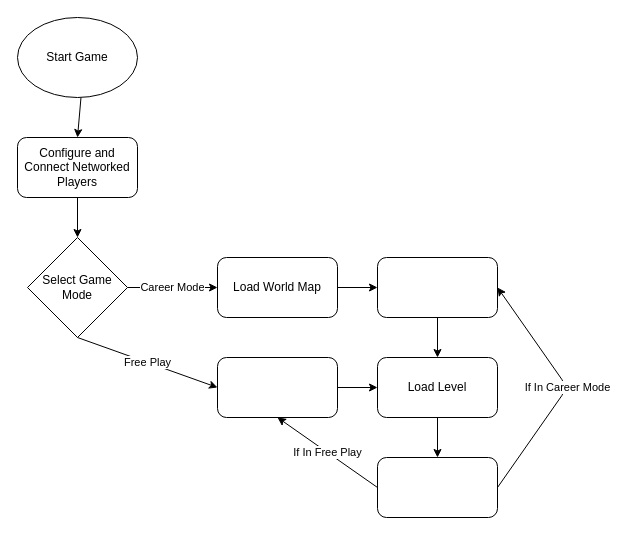
The diagram is 628 pixels wide and 535 high, and some of its shapes have lost their labels. Here are the shapes that lost their labels. From the top down, the box of each, then its label:
(376, 256, 498, 318): Select Level
(216, 356, 338, 418): Configure Level
(376, 456, 498, 518): Play Level
